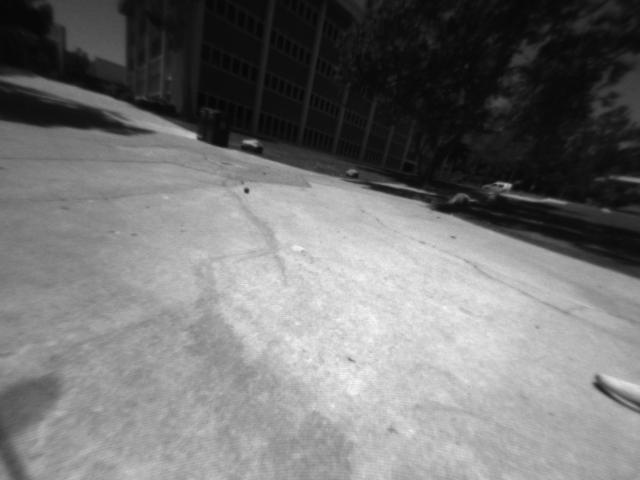dogtoy: (239, 181, 257, 200)
